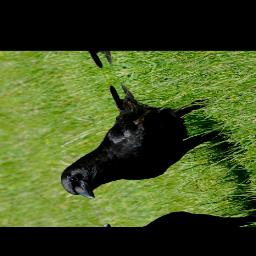Crow: (20, 65, 243, 206)
